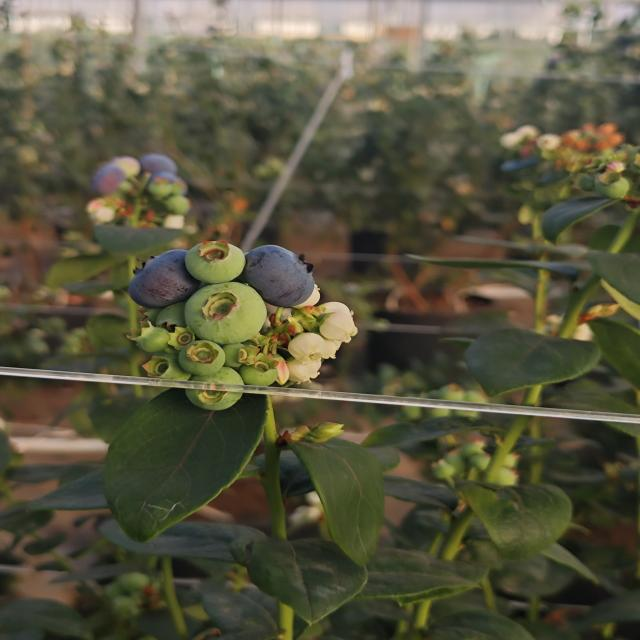ripe: (239, 243, 320, 309), (126, 247, 200, 310), (130, 158, 179, 181), (94, 160, 126, 190)
